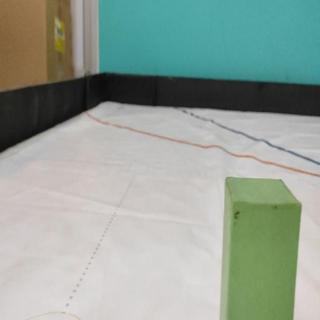greenbox: (219, 177, 303, 320)
